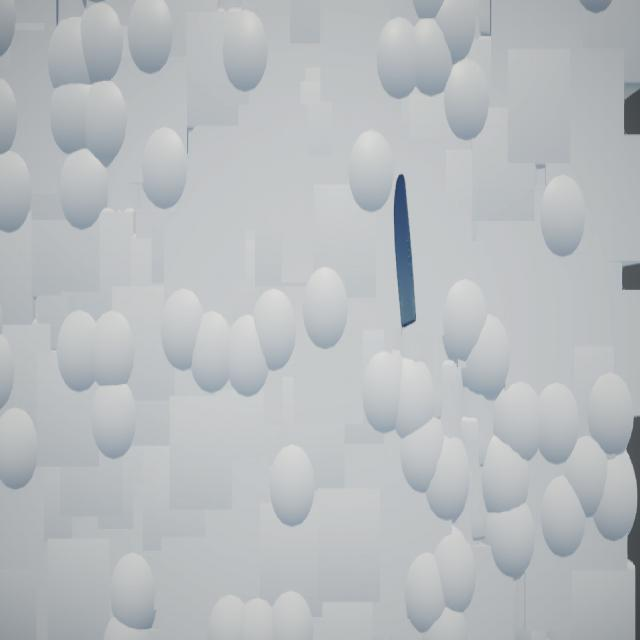top_knife: (394, 175, 417, 329)
